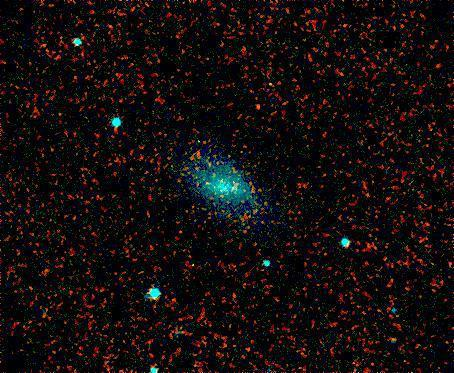star: (242, 90, 272, 120)
